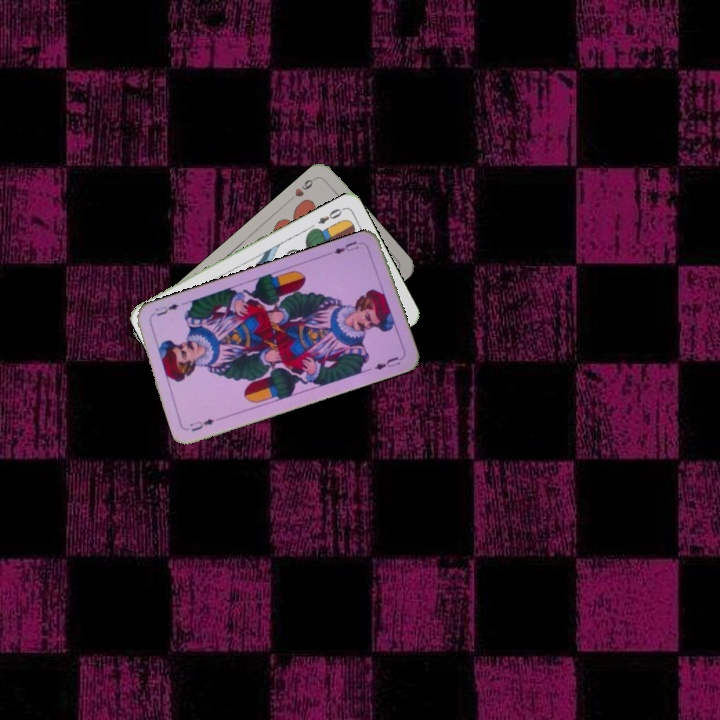EO: (313, 204, 345, 227)
EU: (329, 237, 365, 257), (185, 414, 217, 434)
H9: (285, 173, 319, 204)
